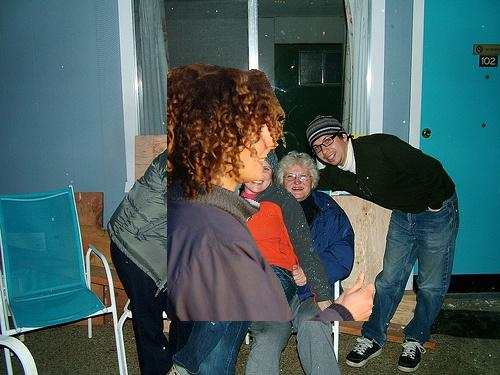tampered: (168, 64, 374, 321)
